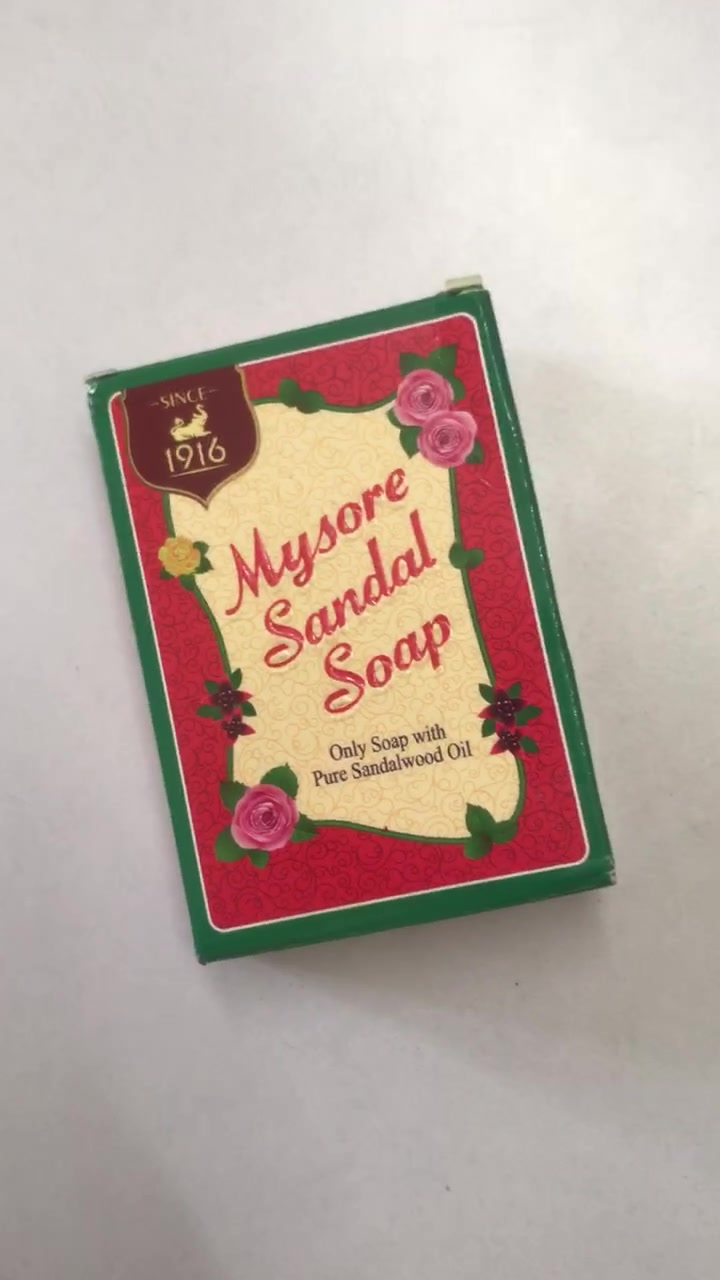mysore sandal soap: (87, 275, 617, 966)
